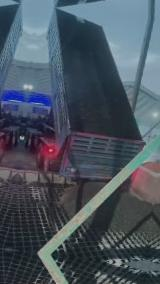gravel: (87, 186, 152, 235), (62, 182, 104, 214)
